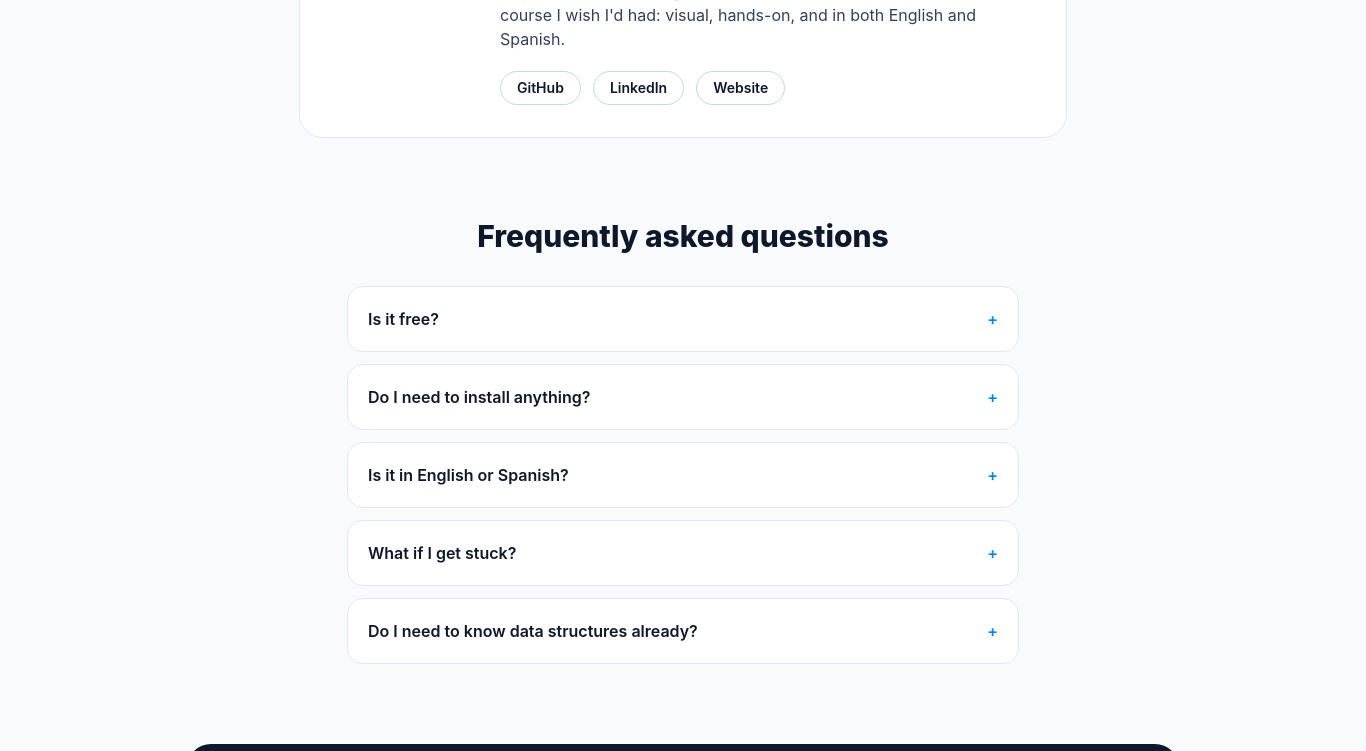
Test: landing page › answers the FAQ when a question is opened
This screenshot has width=1366, height=751.
(page scrolled)
Click the heading "Is it free? +".
click(403, 319)  # box [368,307,998,331]
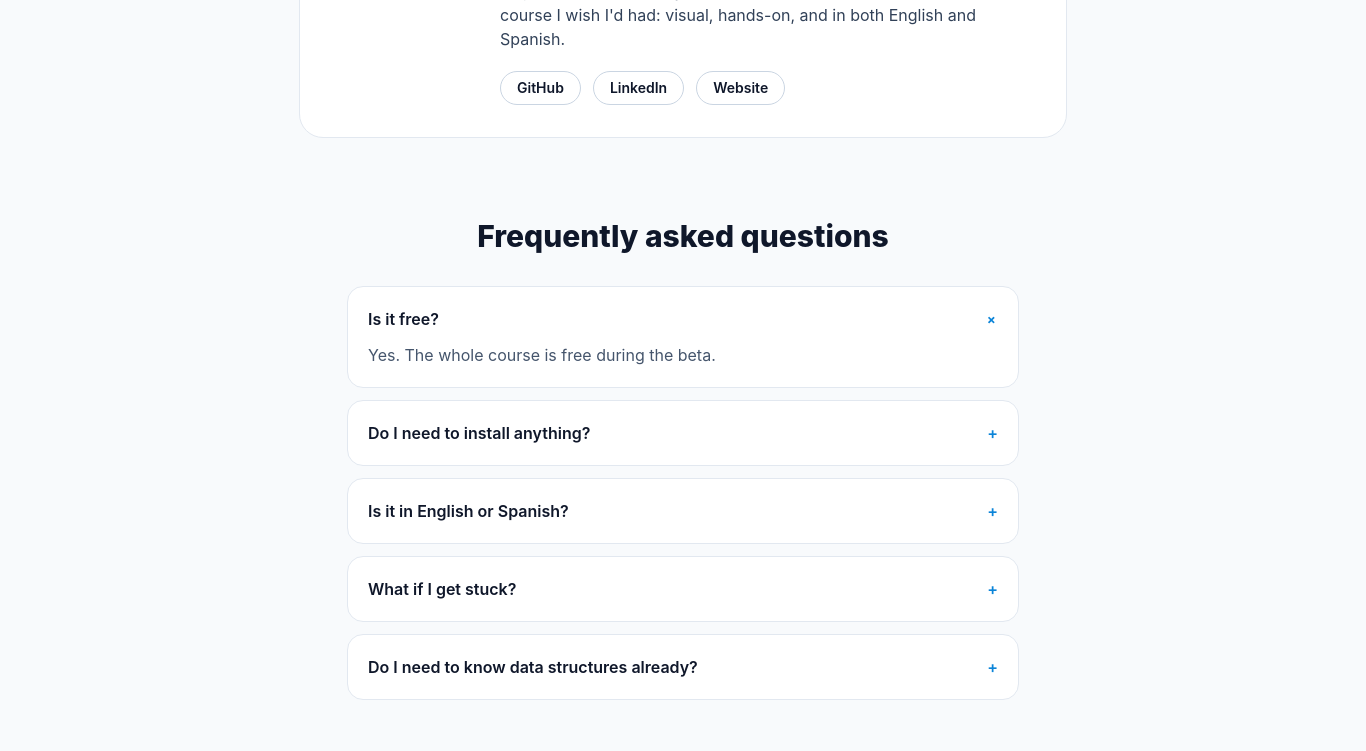
Check: the text "Yes. The whole course is free during the beta." is shown, box [368,345,716,365]
